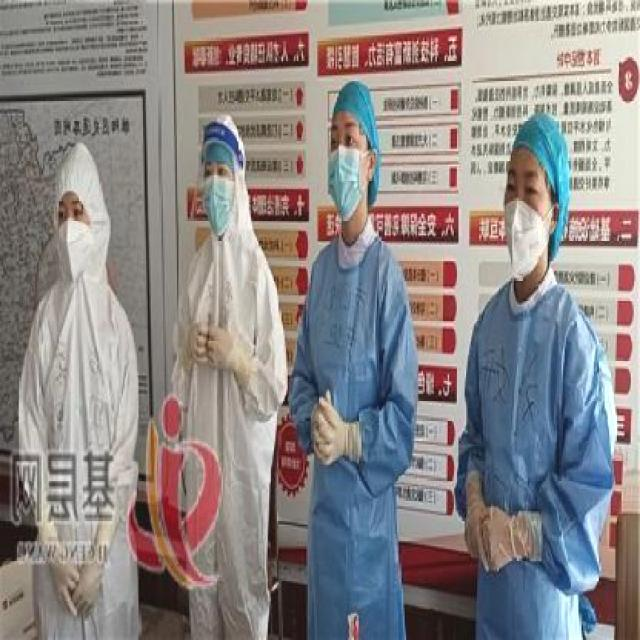face_mask: (491, 156, 555, 276), (324, 114, 370, 217), (51, 194, 95, 268), (194, 155, 235, 231)
hand_glove: (483, 504, 515, 576), (314, 390, 341, 464), (71, 556, 103, 618), (462, 500, 489, 569), (54, 552, 81, 614), (208, 323, 230, 368), (191, 317, 209, 365)
head_nohelmet: (486, 111, 580, 172), (47, 150, 105, 204), (194, 118, 246, 170), (331, 77, 371, 125)
person: (426, 92, 617, 640), (282, 78, 422, 640)
